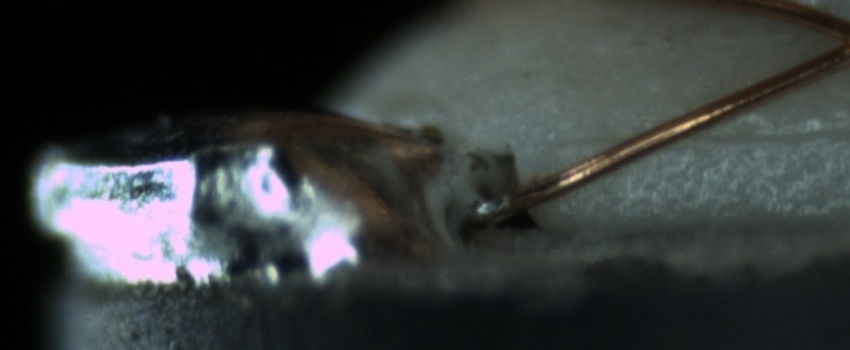CL: (815, 15, 849, 68)
DL: (555, 107, 850, 167)
TS: (464, 188, 511, 222)
